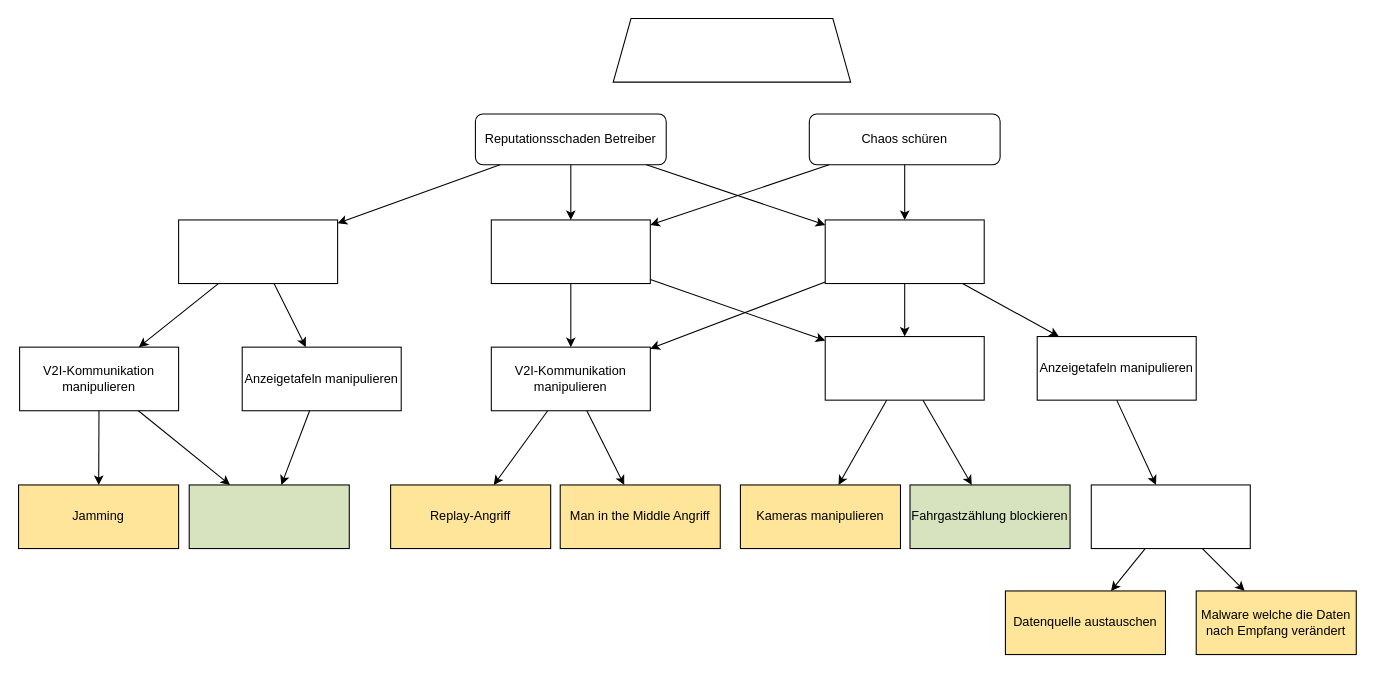
Some shapes in this 1375 by 673 pixel diagram are drawn without their labels. The centre of each missing label's shape, as x and y in pixels:
"Angriffsziel Optimierung der Fahrgastwechselzeit" belongs at (731,49).
"Auslastungsinformationen nicht anzeigen" belongs at (258,251).
"Kabel zerstören" belongs at (268,516).
"Manipulation übertragener Daten" belongs at (1170,516).
"Reisende vor überlastete Waggons lenken" belongs at (904,251).
"Sensoren manipulieren" belongs at (904,367).
"Weniger Fahrzeuge werden bereitgestellt als nötig" belongs at (570,251).
